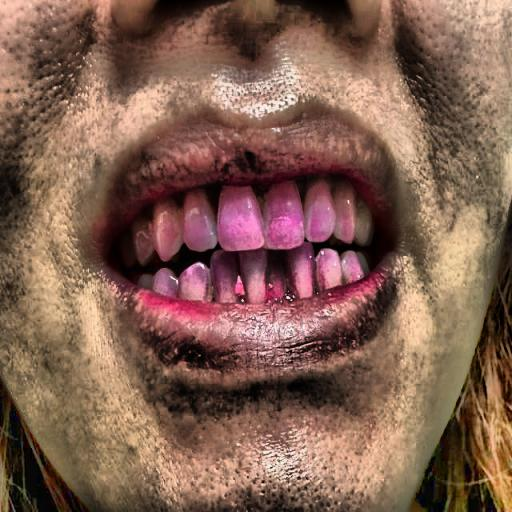Plaque: (122, 174, 391, 316), (182, 268, 325, 318)
